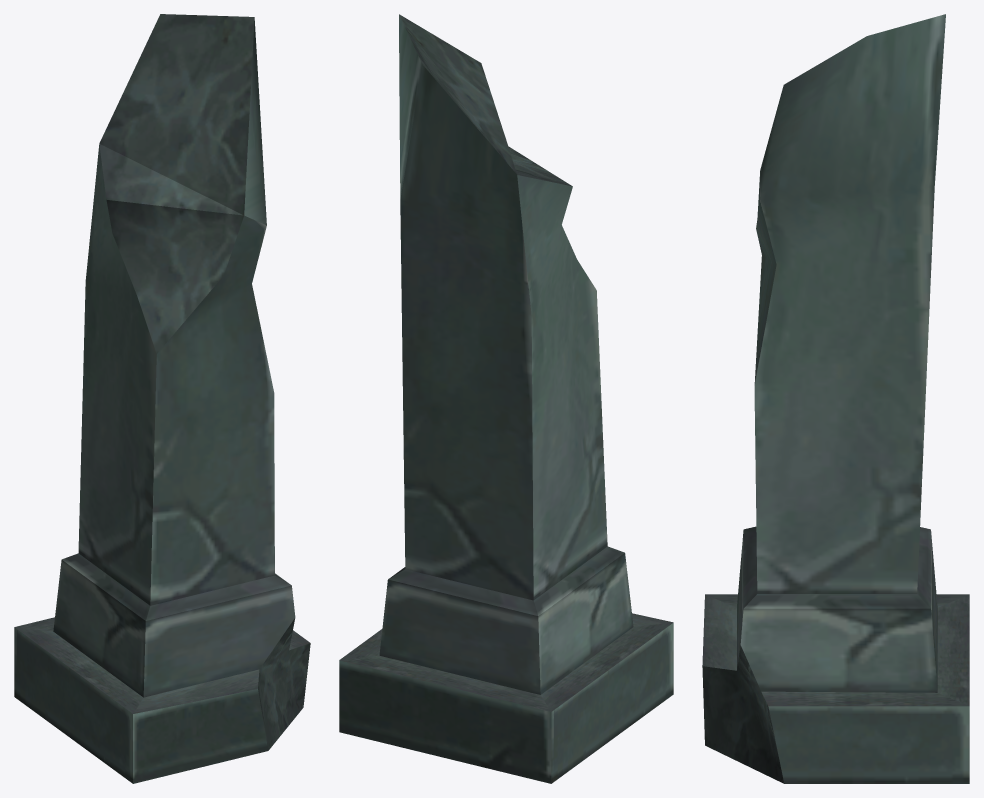
Rendered from crypt_pillar_broken_01.fbx.
3 renders of one model, left to right at view 1: azimuth 30°, elevation 25°; view 2: azimuth 150°, elevation 25°; view 3: azimuth 270°, elevation 25°, orthographic. The views are drawn at different scales.
Parts seen in each view (by area): view 1: crypt_pillar_broken_01-0; view 2: crypt_pillar_broken_01-0; view 3: crypt_pillar_broken_01-0.
Part boxes in pixels (<box>): crypt_pillar_broken_01-0: <box>14,14,310,783</box>; crypt_pillar_broken_01-0: <box>339,14,673,783</box>; crypt_pillar_broken_01-0: <box>702,14,969,783</box>.
Bounding box in the file's own units: 2.68 × 8.27 × 2.7.
